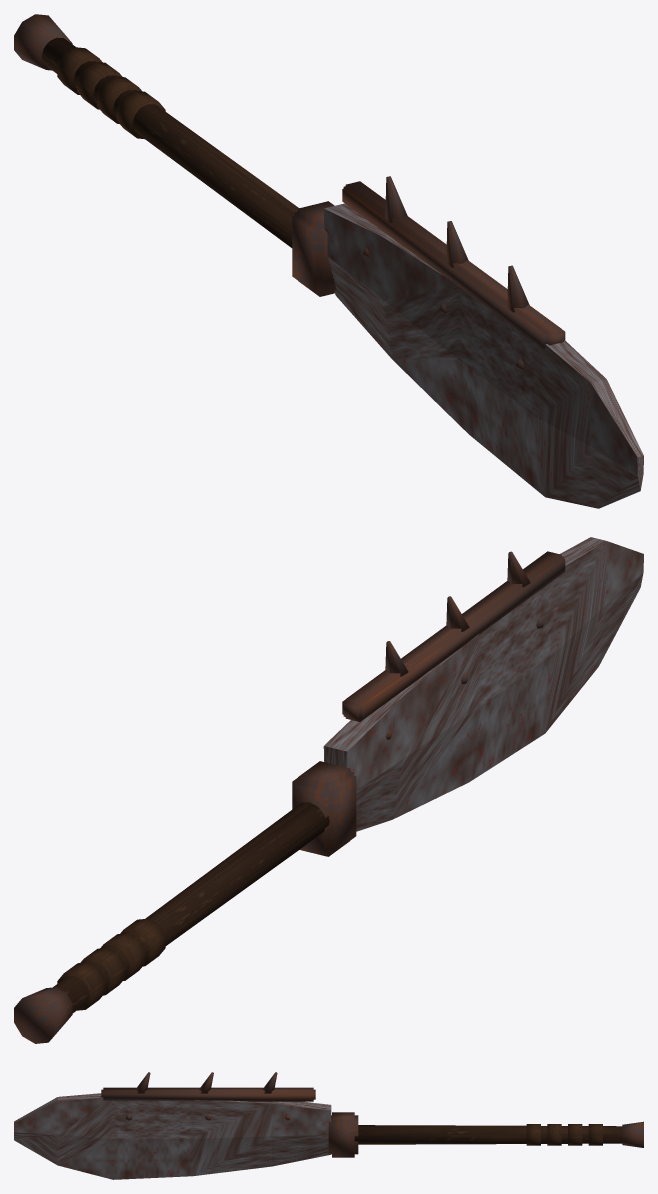
The model's file is KeDaoMo_Weapon_Cleaver.fbx.
The picture shows the model from 3 angles, top to bottom: view 1: azimuth 30°, elevation 25°; view 2: azimuth 150°, elevation 25°; view 3: azimuth 270°, elevation 25°; orthographic projection. The views are drawn at different scales.
Visible parts, largest first — view 1: WeaponBlade; view 2: WeaponBlade; view 3: WeaponBlade.
Boxes of the visible parts, x1,y1,x2,y2 form: WeaponBlade: (14, 14, 643, 508); WeaponBlade: (14, 537, 643, 1043); WeaponBlade: (14, 1072, 643, 1179).
Size of the model in its own units: 0.0647 by 0.2989 by 1.59.
4 materials, 4 textured.
